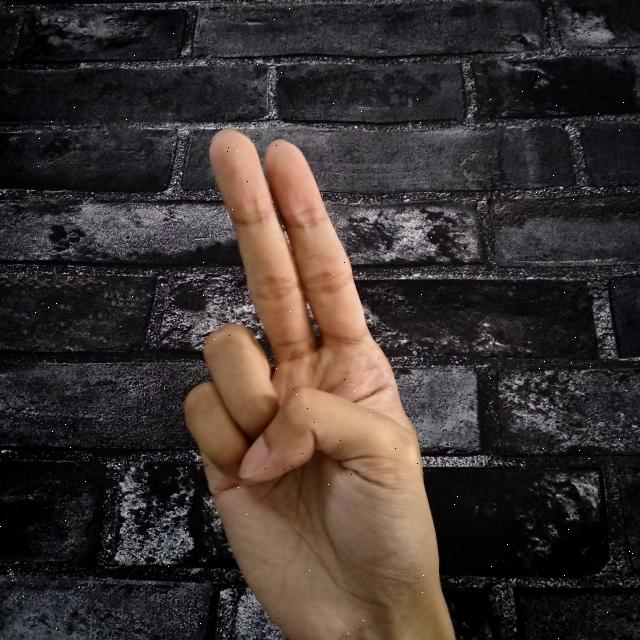U: (175, 123, 465, 640)
